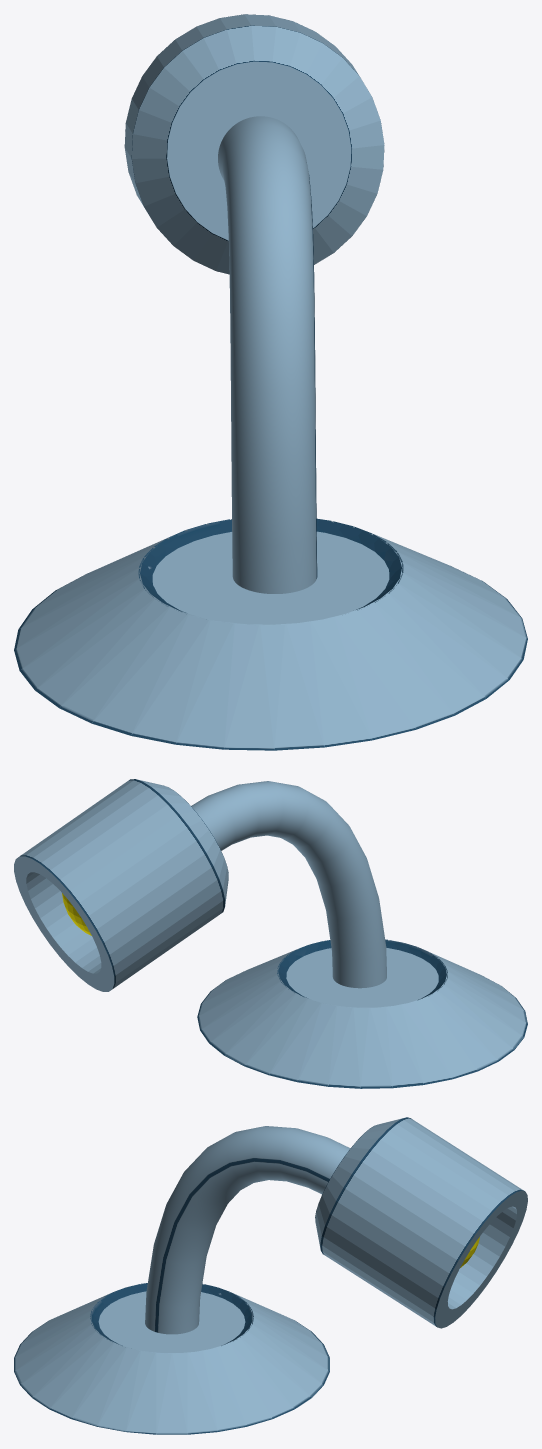
The model's file is lampara.obj.
3 renders of one model, top to bottom at view 1: azimuth 30°, elevation 25°; view 2: azimuth 150°, elevation 25°; view 3: azimuth 270°, elevation 25°, orthographic. The views are drawn at different scales.
Visible parts, largest first — view 1: Cono, Cilindro_Cilindro.001, Curva_Bézier_Curva_Bézier.002; view 2: Cono, Cilindro_Cilindro.001, Curva_Bézier_Curva_Bézier.002; view 3: Cono, Cilindro_Cilindro.001, Curva_Bézier_Curva_Bézier.002.
Part boxes in pixels (x1,y1,x2,y2): Cono: [14, 518, 527, 750]; Cilindro_Cilindro.001: [124, 14, 384, 274]; Curva_Bézier_Curva_Bézier.002: [218, 116, 317, 593]; Cono: [197, 939, 527, 1088]; Cilindro_Cilindro.001: [14, 779, 228, 991]; Curva_Bézier_Curva_Bézier.002: [191, 781, 386, 988]; Cono: [14, 1283, 329, 1434]; Cilindro_Cilindro.001: [315, 1117, 527, 1328]; Curva_Bézier_Curva_Bézier.002: [145, 1126, 350, 1334].
Bounding box in the file's own units: 0.2973 × 0.2366 × 0.3798.
